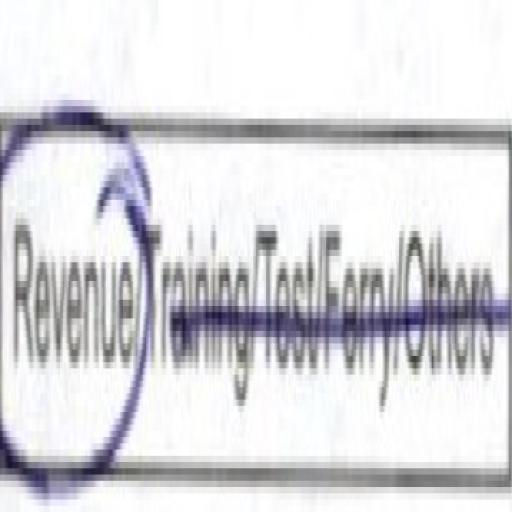check: (1, 52, 152, 512)
